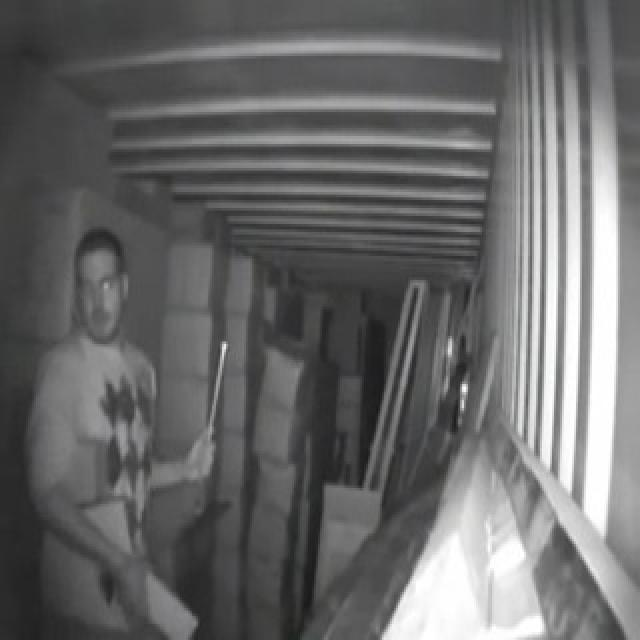thief: (45, 213, 215, 640)
